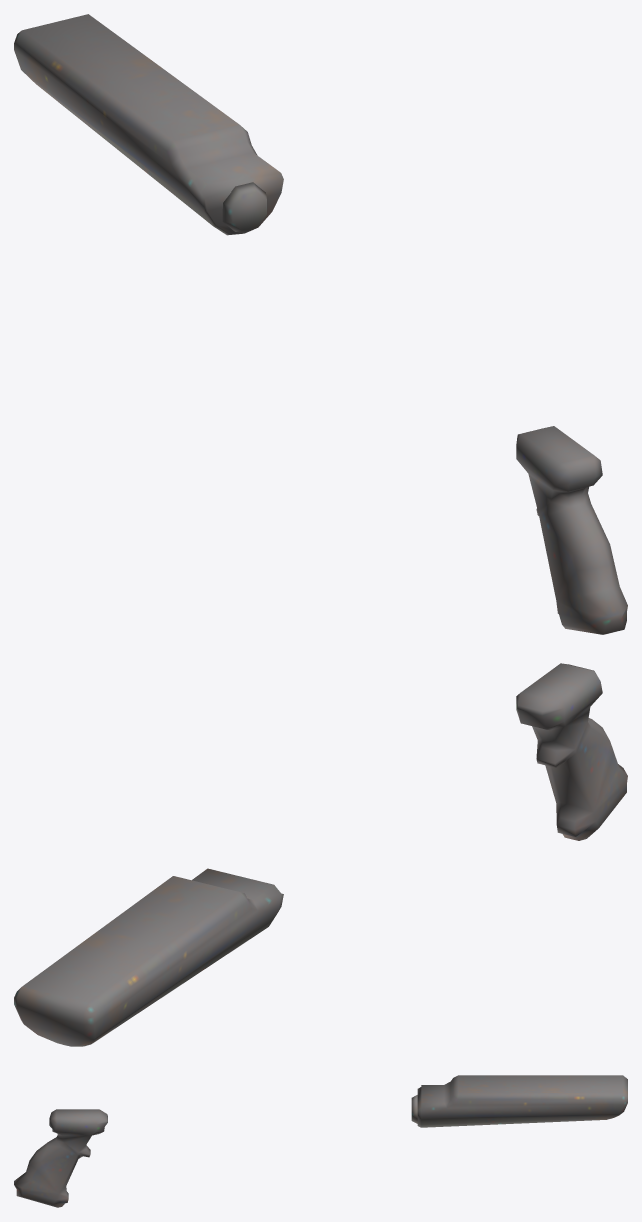
Rendered from grip5.obj.
3 views of the same model, one above another, from view 1: azimuth 30°, elevation 25°; view 2: azimuth 150°, elevation 25°; view 3: azimuth 270°, elevation 25° (orthographic). The views are drawn at different scales.
Parts seen in each view (by area): view 1: grip5; view 2: grip5; view 3: grip5.
Boxes of the visible parts, box(x1,y1,x2,y2) form: grip5: box(14, 14, 627, 634); grip5: box(14, 663, 627, 1046); grip5: box(14, 1075, 627, 1207).
Bounding box in the file's own units: 5.75 × 15.21 × 69.99.
